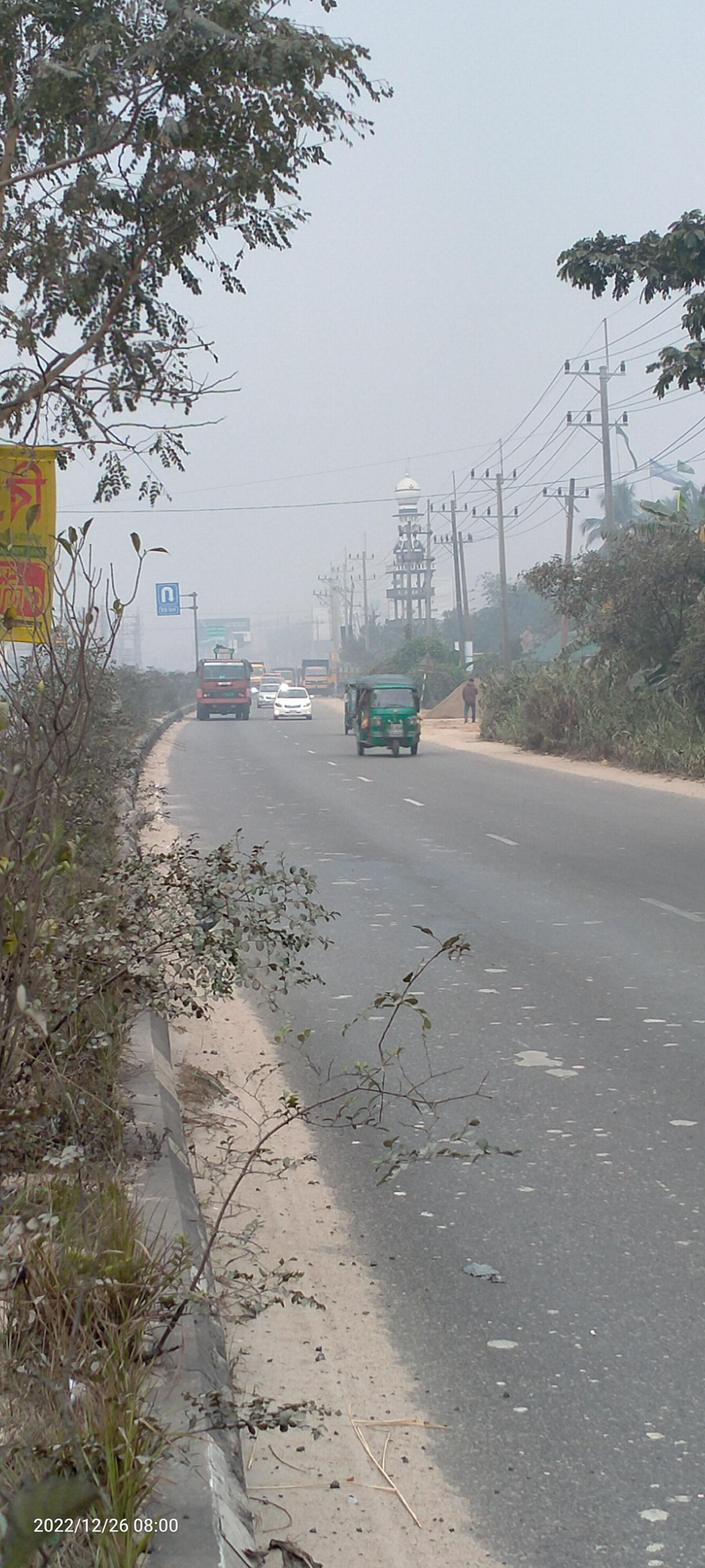Car: (270, 684, 315, 723), (339, 679, 361, 734), (257, 677, 284, 710)
Truck: (190, 642, 255, 725), (300, 655, 334, 698)
